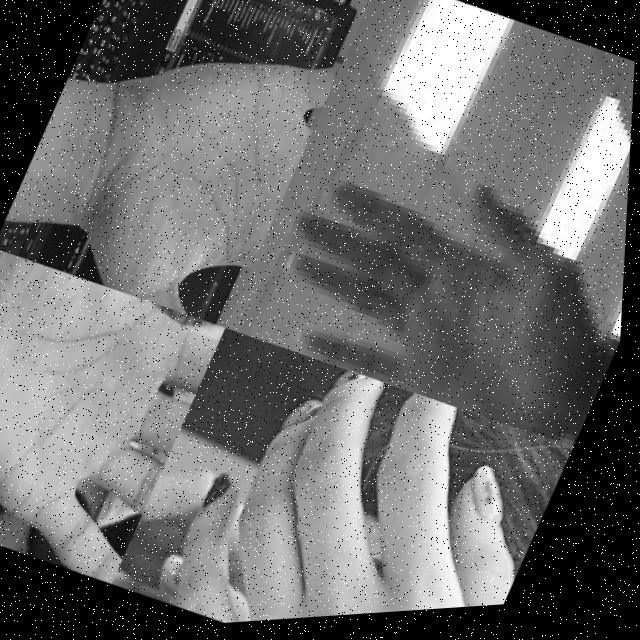hand: (236, 115, 634, 473), (160, 330, 582, 630), (50, 0, 353, 340), (0, 234, 231, 592)
